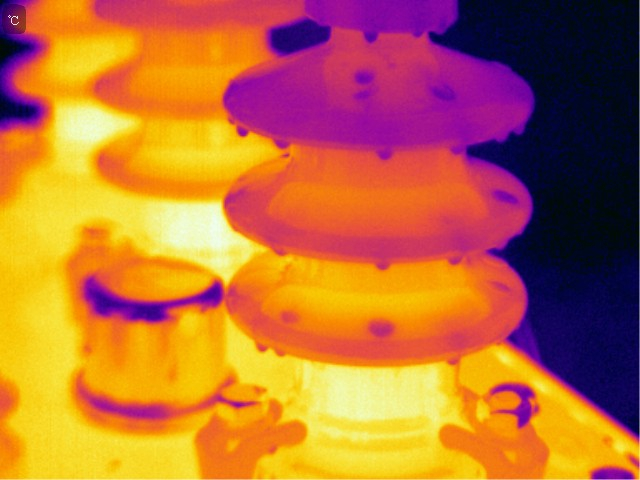Water: (426, 81, 460, 105), (365, 317, 397, 341), (490, 186, 521, 208), (489, 276, 513, 297), (359, 27, 381, 46), (353, 69, 375, 87), (277, 308, 299, 325), (270, 136, 295, 150), (375, 144, 393, 162), (490, 130, 511, 145), (235, 121, 253, 138), (444, 253, 465, 266), (448, 142, 466, 157), (445, 352, 463, 366), (374, 260, 393, 273), (409, 27, 428, 40), (273, 243, 289, 257), (255, 340, 272, 353), (514, 123, 529, 137), (277, 346, 287, 358)
